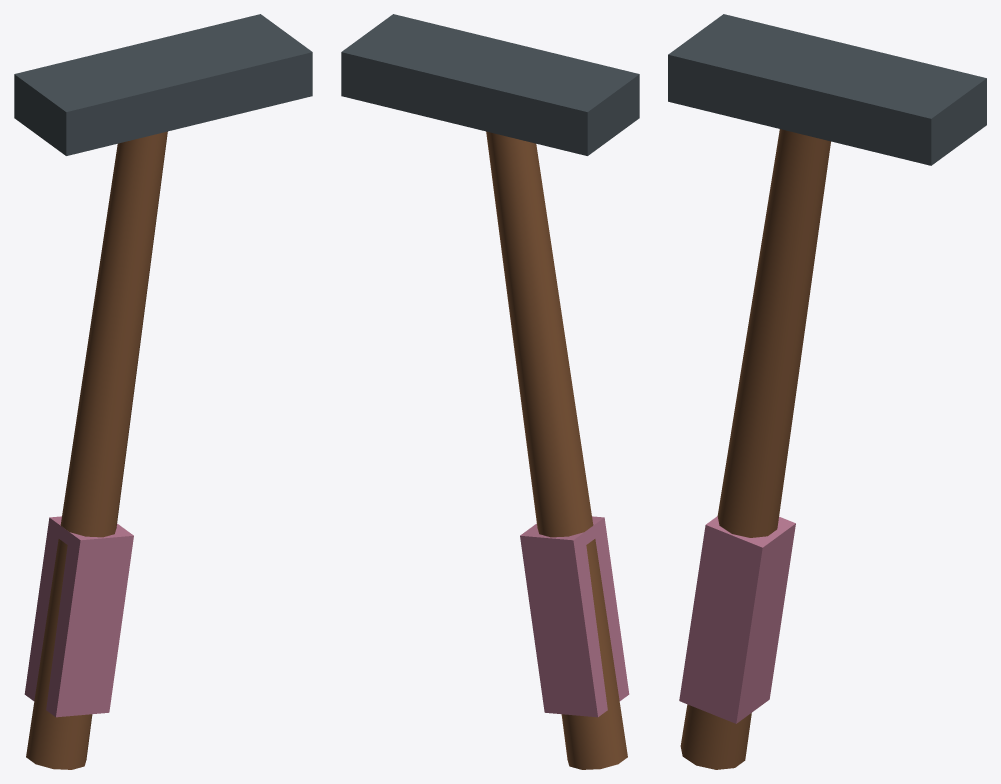
Rendered from tool_shed.glb.
The picture shows the model from 3 angles, left to right: view 1: azimuth 30°, elevation 25°; view 2: azimuth 150°, elevation 25°; view 3: azimuth 330°, elevation 25°; orthographic projection. The views are drawn at different scales.
Visible parts, largest first — view 1: handle, head, grip_wrap; view 2: handle, head, grip_wrap; view 3: head, handle, grip_wrap.
Part boxes in pixels (x1,y1,x2,y2): handle: [26, 131, 167, 769]; head: [14, 14, 312, 155]; grip_wrap: [24, 516, 133, 717]; handle: [486, 131, 627, 769]; head: [341, 14, 639, 155]; grip_wrap: [520, 516, 629, 717]; head: [668, 14, 986, 165]; handle: [680, 129, 830, 769]; grip_wrap: [679, 516, 795, 723].
Size of what is drawn, in the model's own units: 0.8515 by 2.14 by 0.3.
